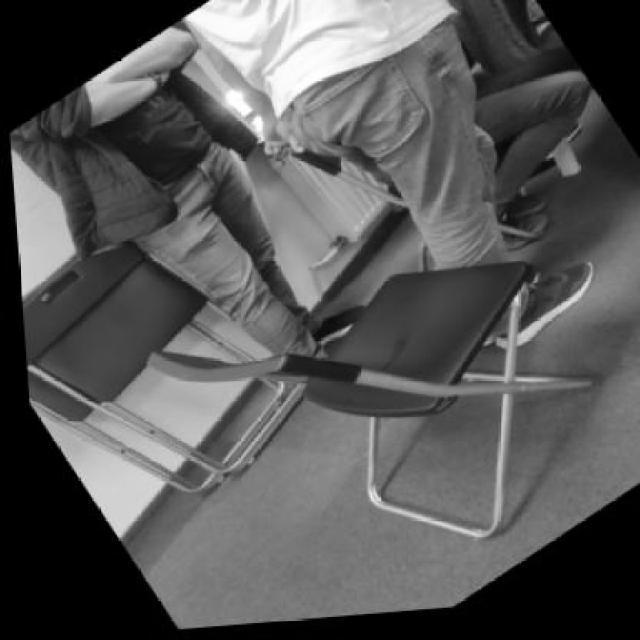chair: (154, 258, 533, 540), (22, 239, 309, 494)
